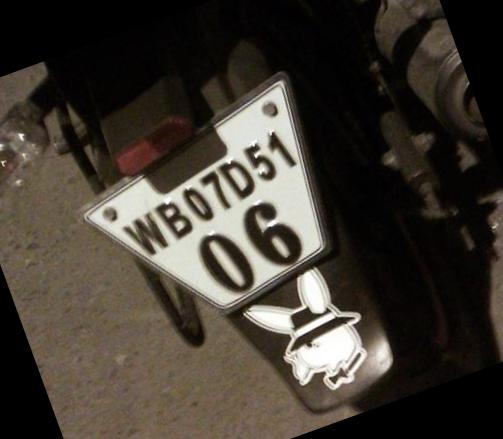plate: (72, 99, 377, 334)
